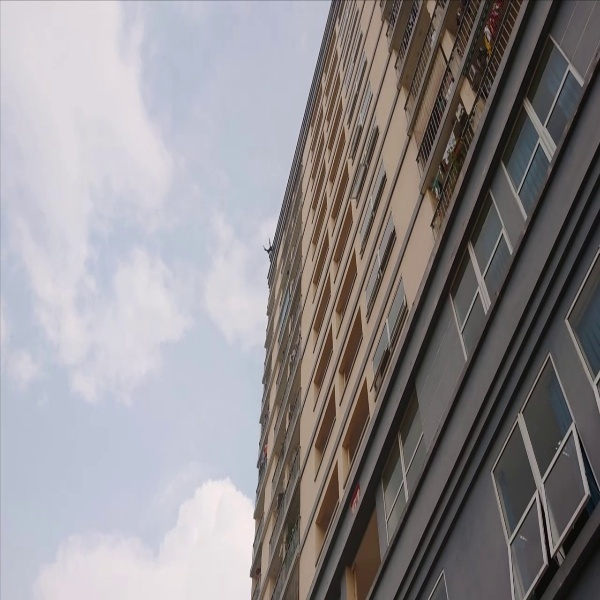drone: (260, 234, 278, 259)
